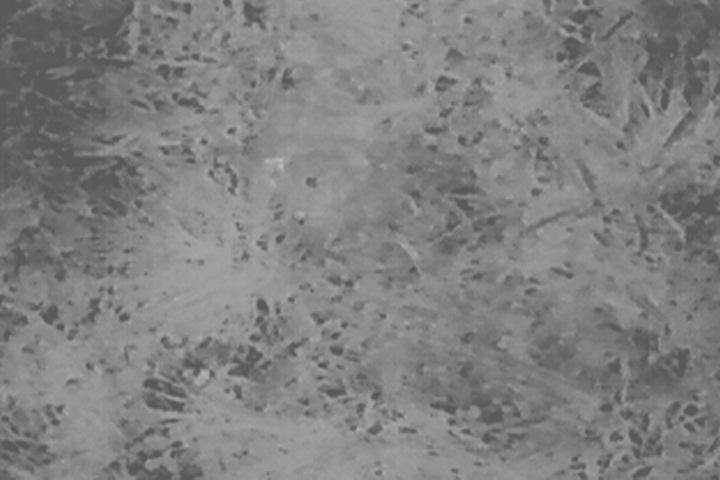landmine: (282, 145, 348, 217)
